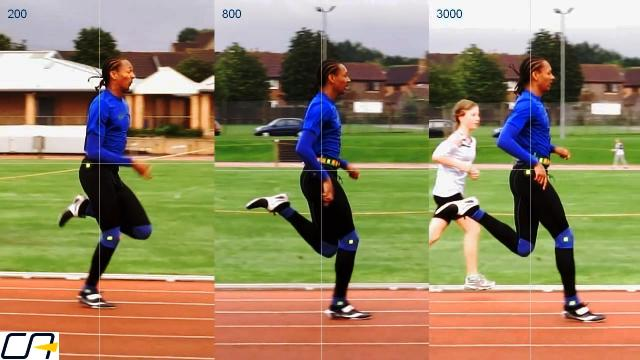berlari: (438, 49, 608, 326), (238, 50, 378, 329), (54, 55, 160, 313)
